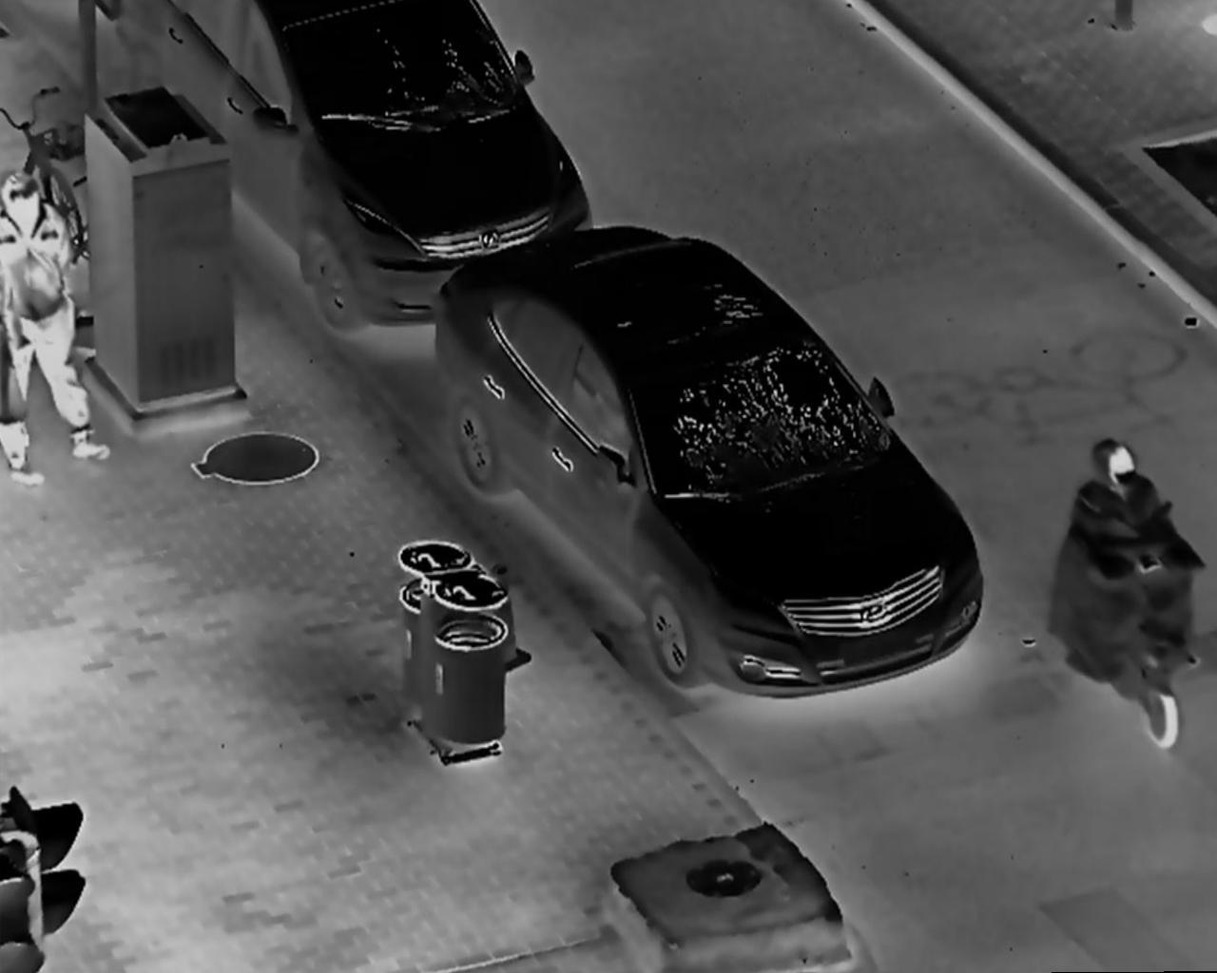person: (1080, 432, 1196, 696)
